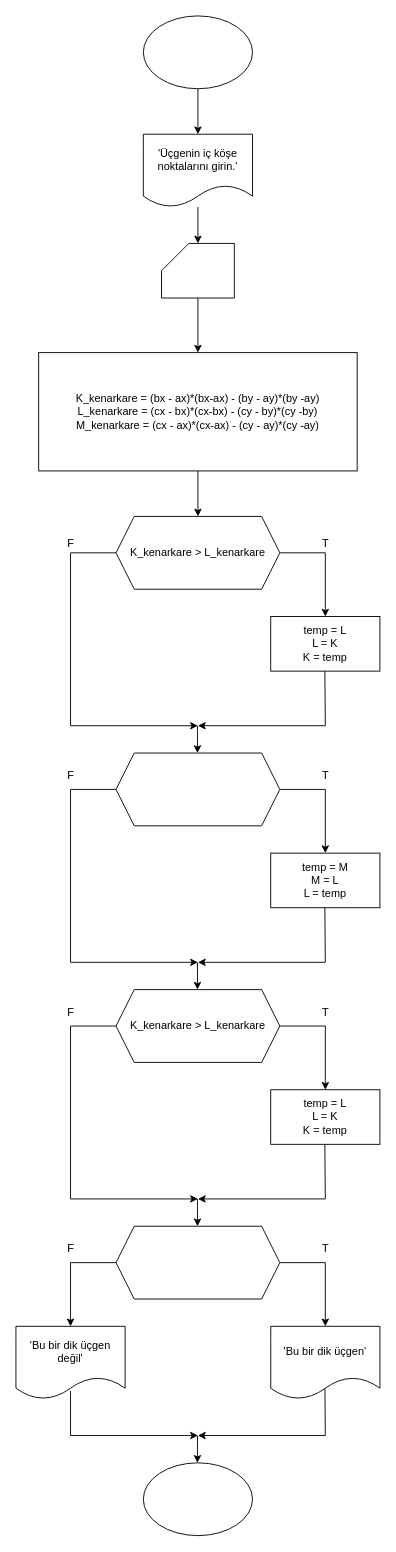
Image size: 396x1552. Some labels were removed from this diagram. The shapes that lost their labels are listed below. From the top down, each one's centre as x and y in pixels, then its label:
At (197,52): "START".
At (197,270): "ax, ay, bx, by, cx, cy".
At (197,789): "L_kenarkare > M_kenarkare".
At (197,1262): "K*K + L*L = M*M".
At (197,1499): "STOP".
